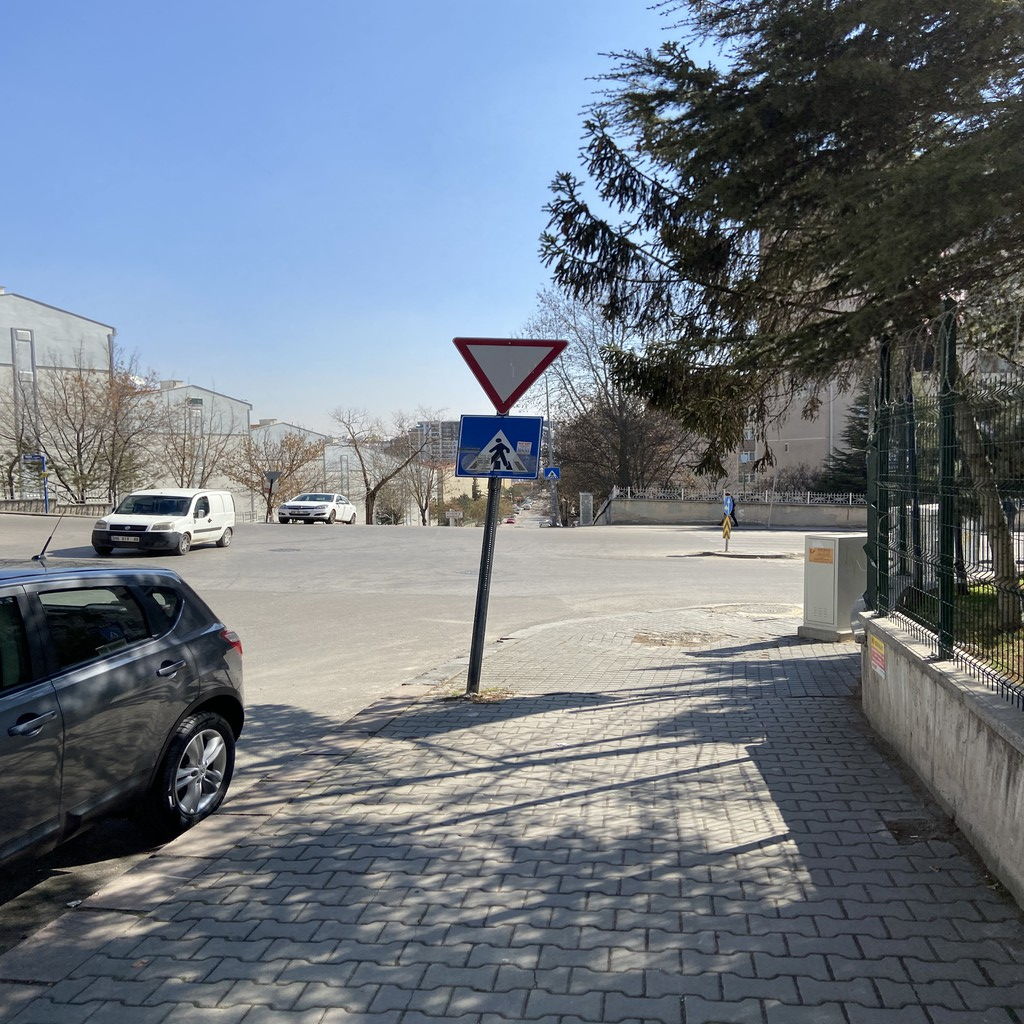Yaya Gecidi: (456, 410, 543, 483)
Yol Ver: (458, 333, 569, 411)
